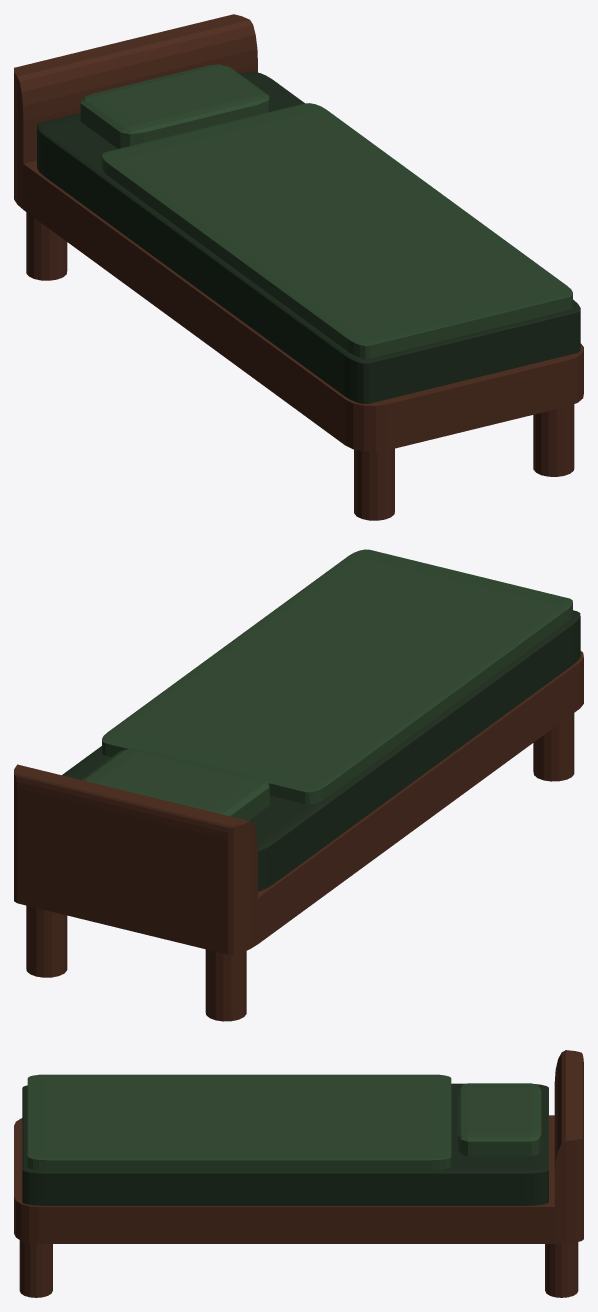
The model's file is Bedroom_Bed_small.fbx.
The picture shows the model from 3 angles, top to bottom: view 1: azimuth 30°, elevation 25°; view 2: azimuth 150°, elevation 25°; view 3: azimuth 270°, elevation 25°; orthographic projection. The views are drawn at different scales.
Parts seen in each view (by area): view 1: Bedroom_Bed_small; view 2: Bedroom_Bed_small; view 3: Bedroom_Bed_small.
Part boxes in pixels (left/top/right/bottom): Bedroom_Bed_small: left=14, top=14, right=583, bottom=520; Bedroom_Bed_small: left=14, top=549, right=583, bottom=1021; Bedroom_Bed_small: left=14, top=1050, right=583, bottom=1297.
Bounding box in the file's own units: 80 × 65.16 × 210.
